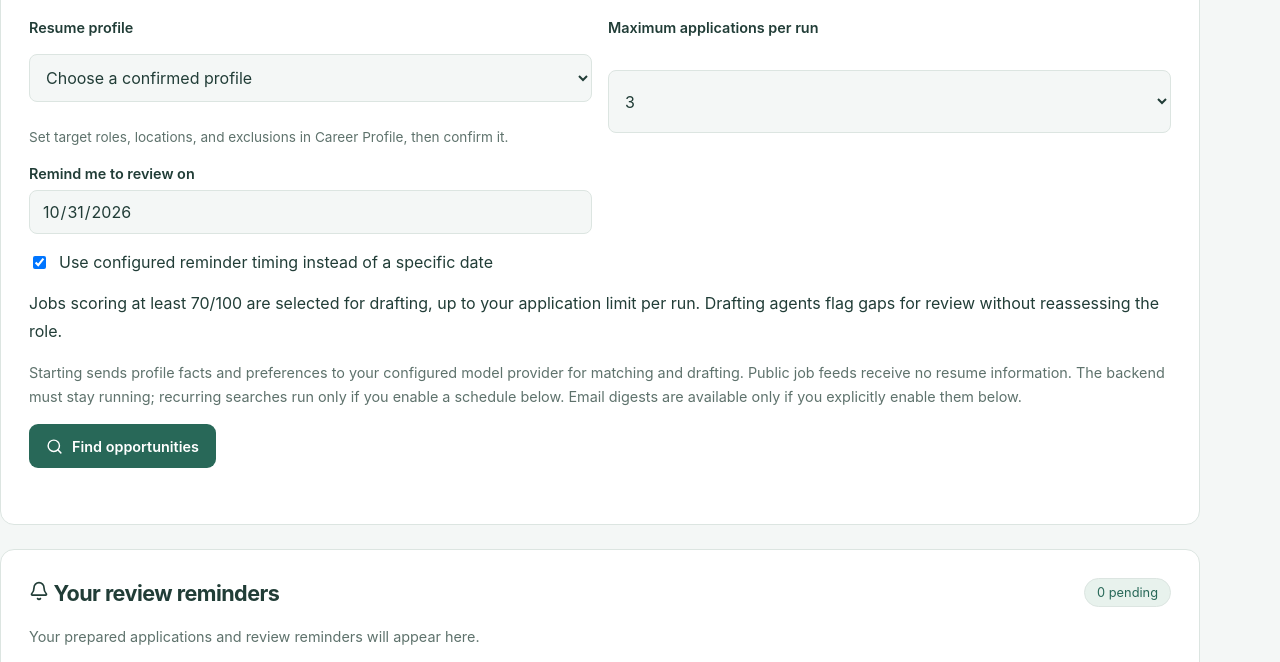
Test: starts a reassessment of saved listings using the latest confirmed profile
(page scrolled)
Click the checkbox labelled "Use configured reminder timing instead of a specific date" at point(40, 262), box [33,256,46,269]
(page scrolled)
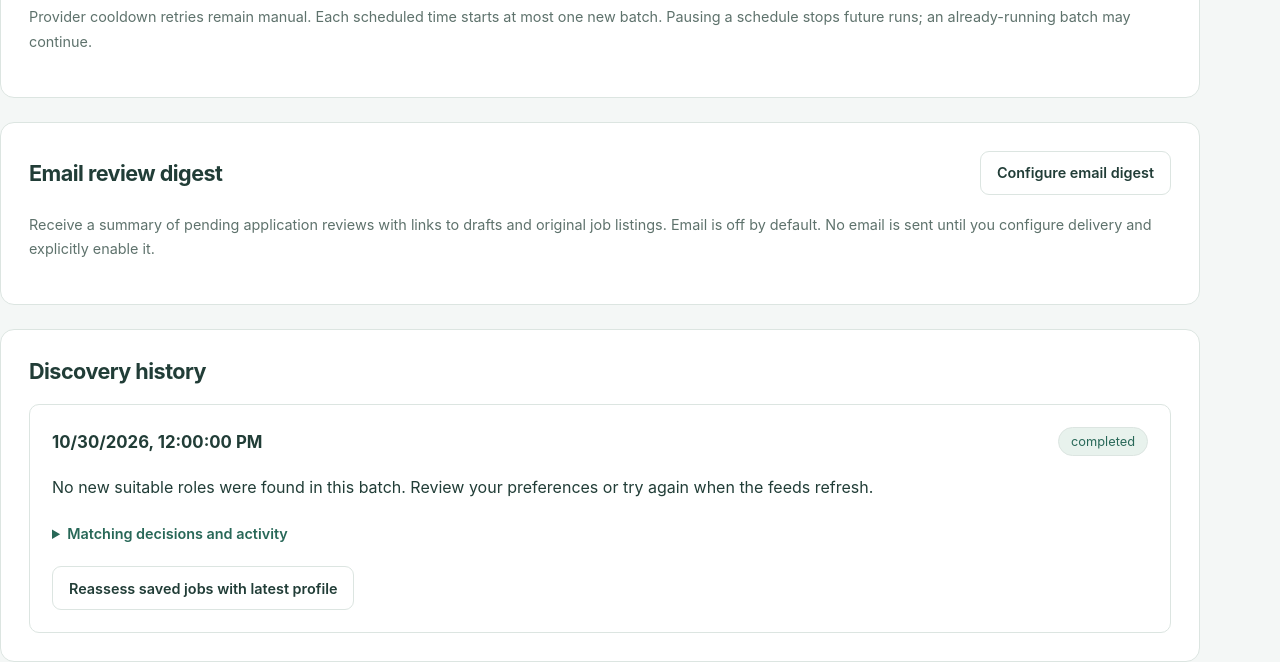
Click the button "Reassess saved jobs with latest profile" at point(203, 588), box [52,566,354,610]
(page scrolled)
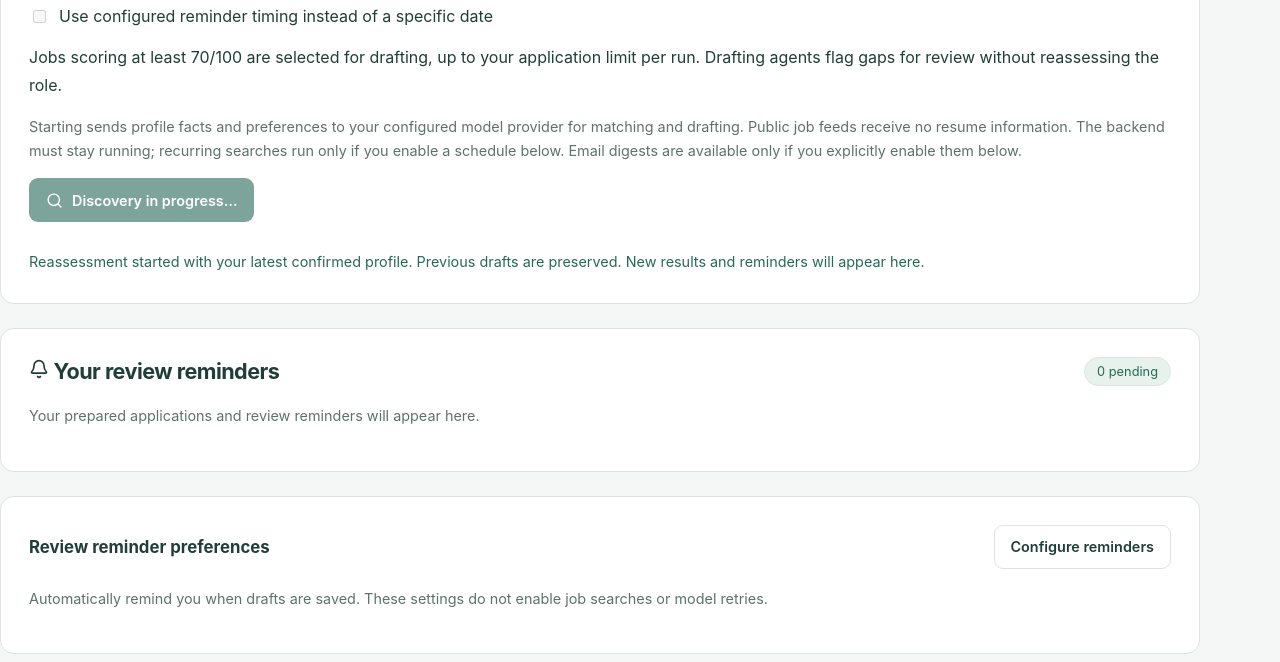
Check: the text "Reassessment started with your latest confirmed profile" is shown, box [29,253,925,270]
